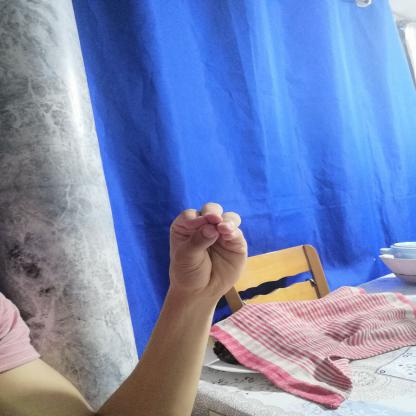HA: (153, 195, 262, 306)
